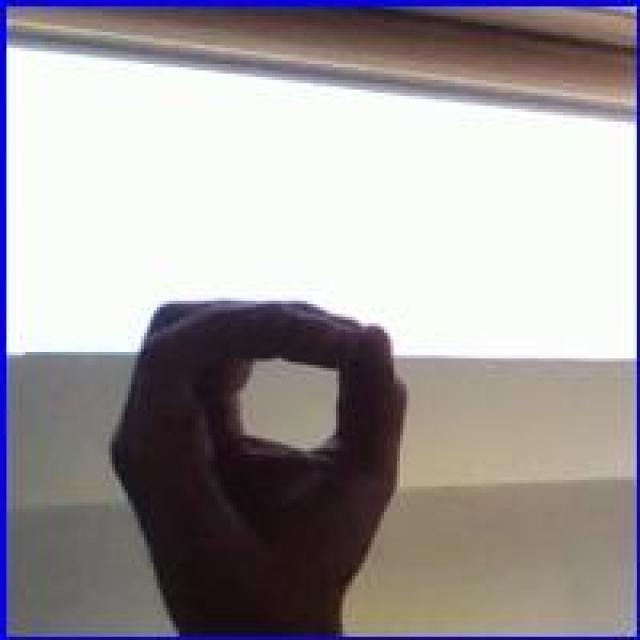O: (106, 291, 410, 611)
